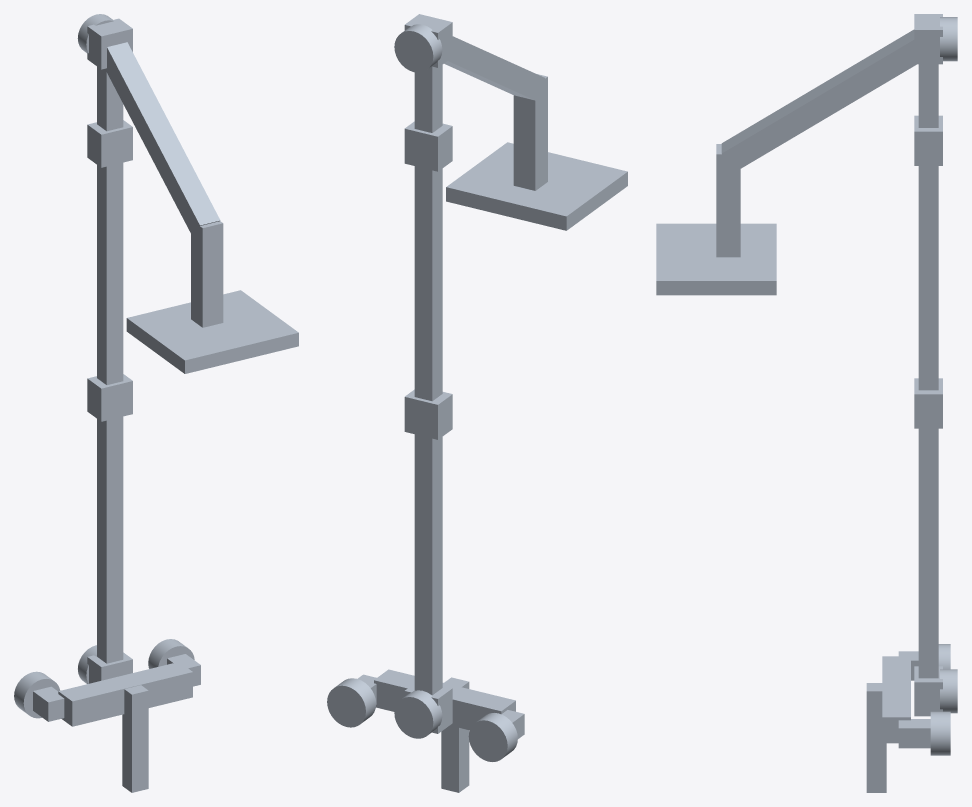
The model's file is shower.glb.
3 renders of one model, left to right at view 1: azimuth 30°, elevation 25°; view 2: azimuth 150°, elevation 25°; view 3: azimuth 270°, elevation 25°, orthographic. The views are drawn at different scales.
Parts seen in each view (by area): view 1: shower; view 2: shower; view 3: shower.
Part boxes in pixels (left/top/right/bottom): shower: left=14, top=14, right=298, bottom=792; shower: left=327, top=14, right=627, bottom=792; shower: left=656, top=14, right=957, bottom=792.
Size of the model in its own units: 0.459 by 1.91 by 0.677.
